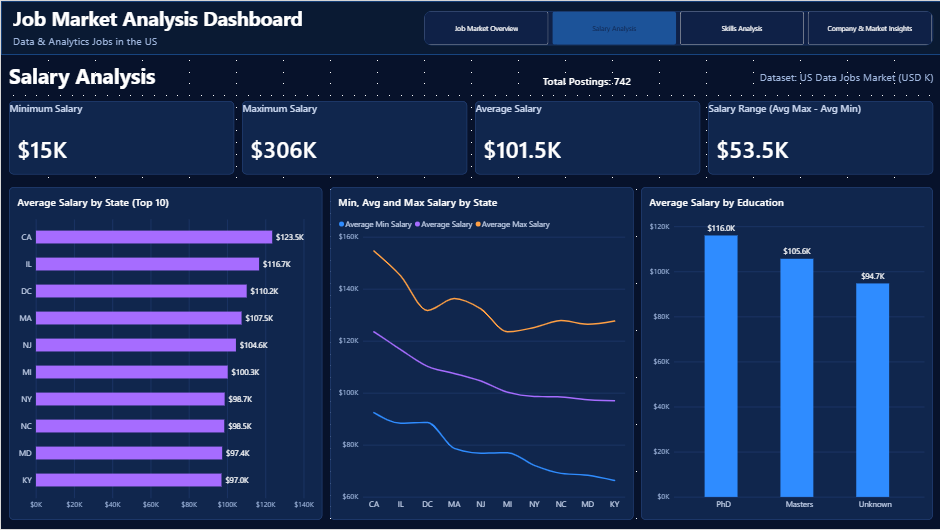

The page's visual inventory and layout, read from the dashboard file:
{"tool":"powerbi","page":{"name":"Salary Analysis","canvas":[1920,1080],"ordinal":1},"visuals":[{"type":"clusteredColumnChart","fields":{"Category":["Market_cleaned.State"],"Y":["Avg(Market_cleaned.Lower_Salary)","Avg(Market_cleaned.Upper_Salary)"]},"box":[10,0,280,280],"z":0},{"type":"clusteredColumnChart","fields":{"Category":["Market_cleaned.Degree"],"Y":["Avg(Market_cleaned.Avg_SalaryK)"]},"box":[16,288,320,288],"z":1}]}

Visuals, with their boxes in screenshot pixels (x1, y1, x2, y2), scaled from the page's 1920x1080 canvas onto the 940x530 screenshot:
clusteredColumnChart - Market_cleaned.State x Avg(Market_cleaned.Lower_Salary): bbox=[5, 0, 142, 137]
clusteredColumnChart - Market_cleaned.Degree x Avg(Market_cleaned.Avg_SalaryK): bbox=[8, 141, 164, 283]
